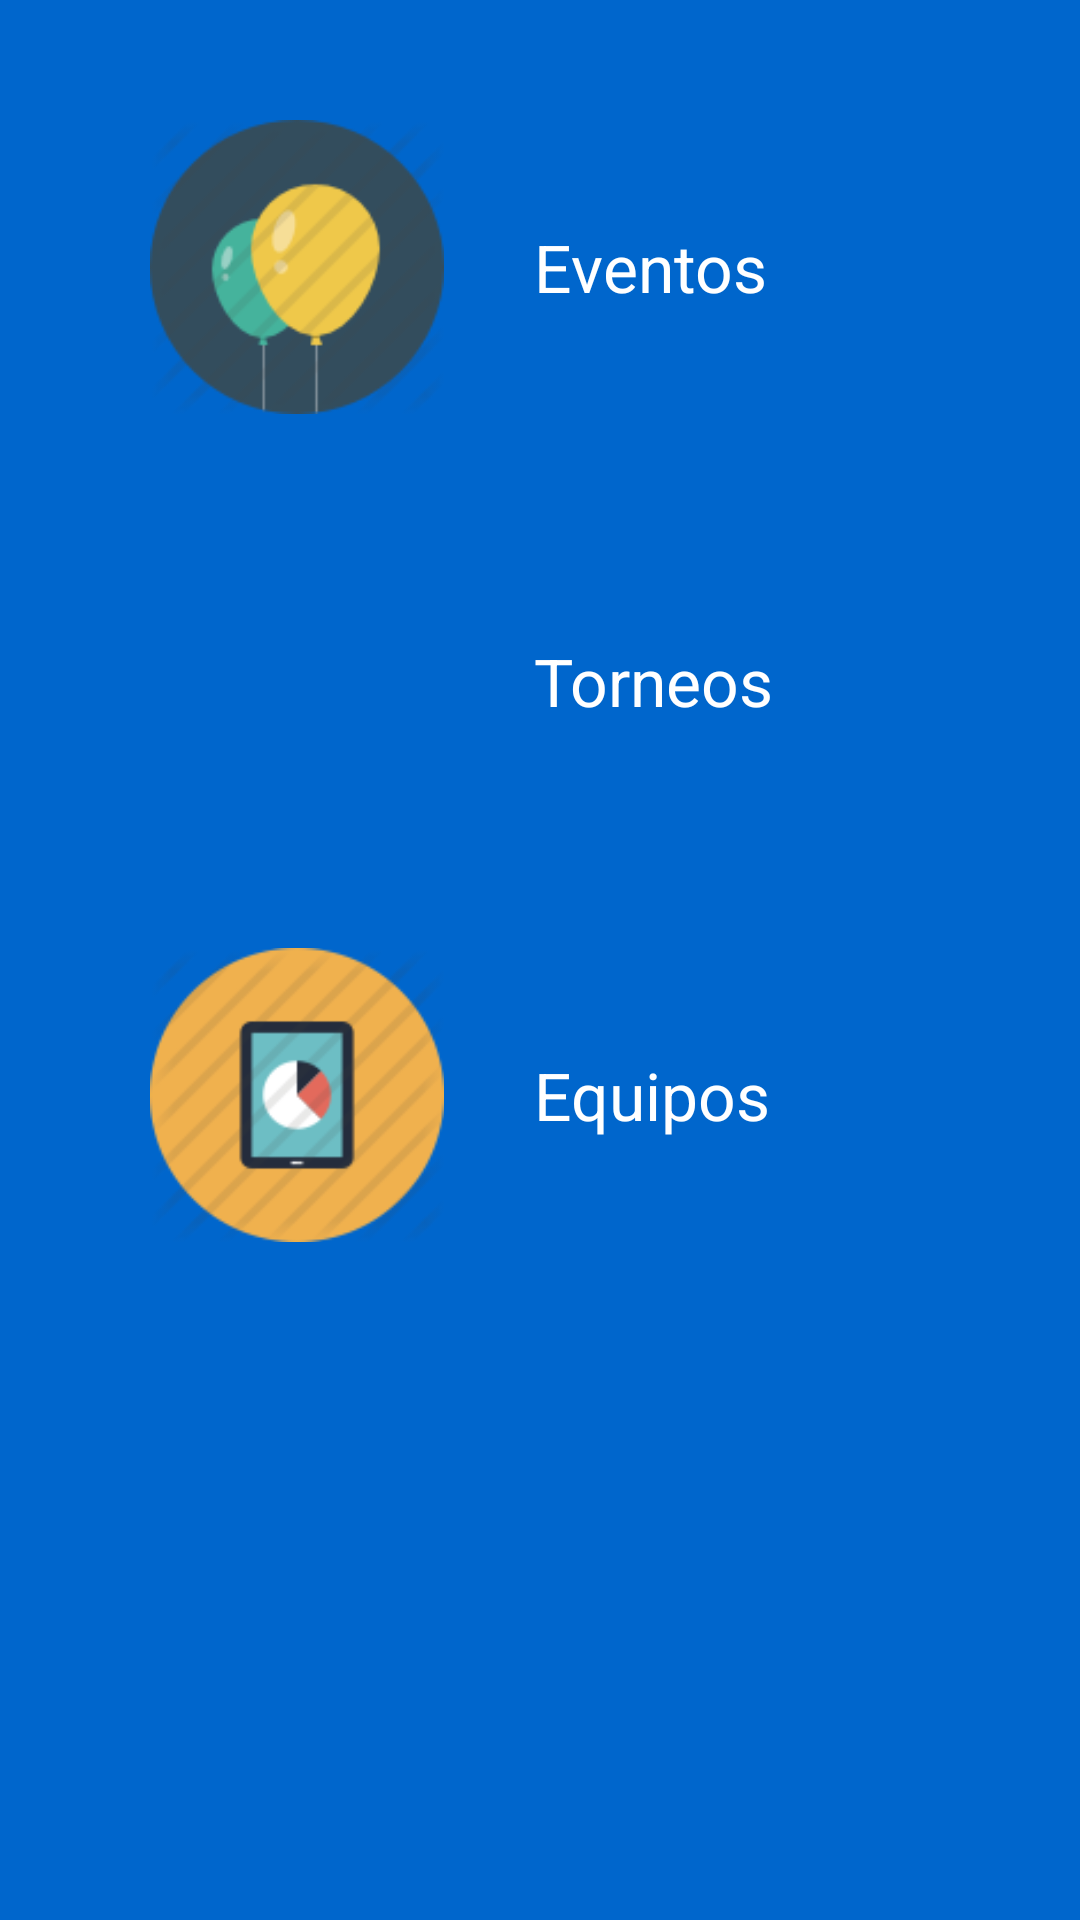

Where icons sit on this 1080x1920 app screen, as bbox=[x1, y1, x2, y2]:
events: bbox=[150, 120, 444, 414]
